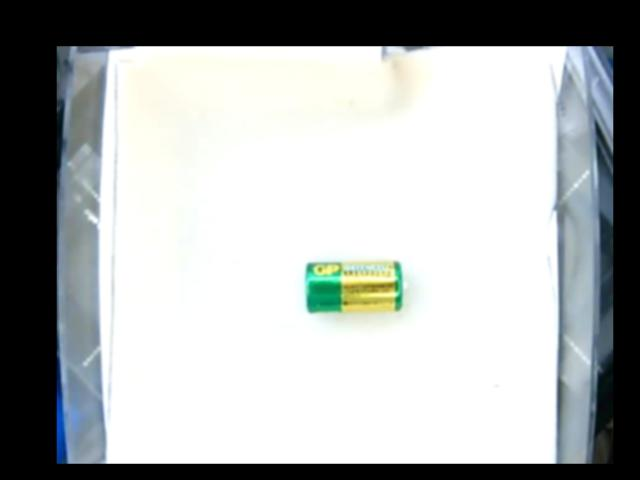Battery: (306, 260, 406, 314)
